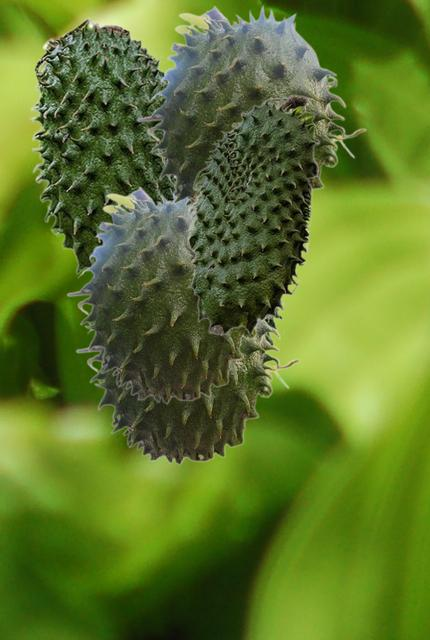guyabano: (136, 3, 366, 219), (66, 186, 283, 404), (29, 16, 174, 275), (75, 316, 300, 465), (186, 94, 319, 335)
